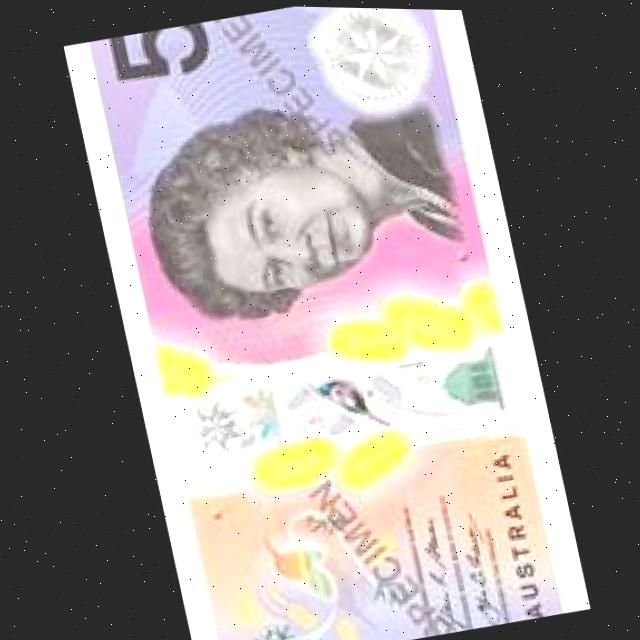banknote: (77, 1, 571, 640)
